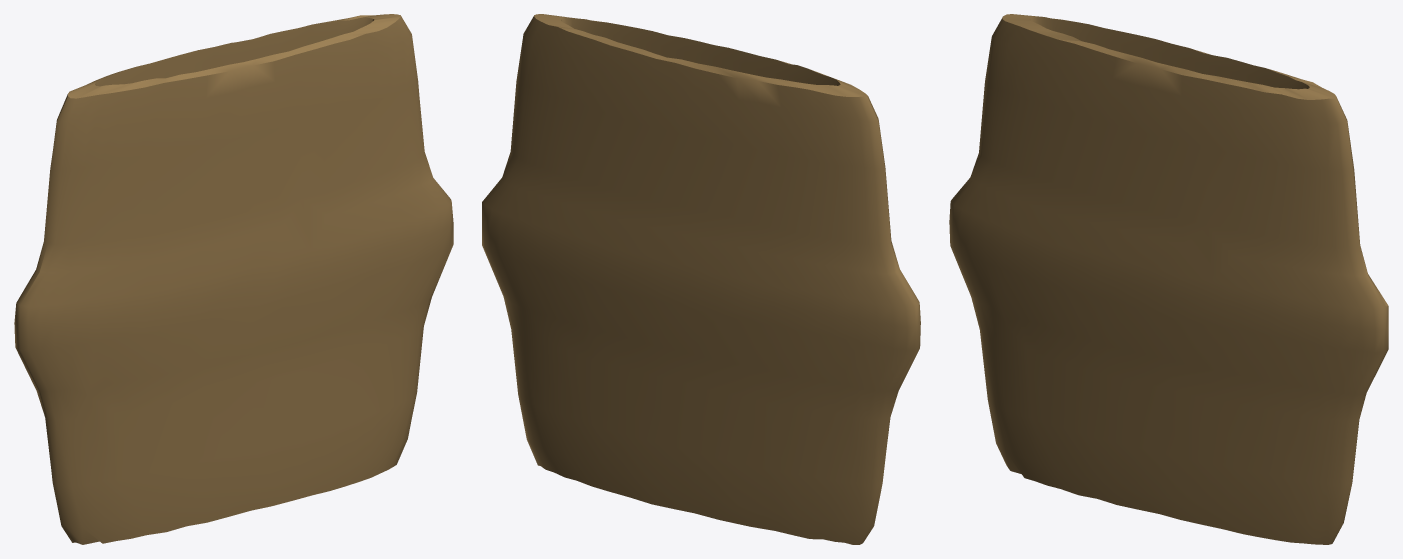
File: 23_SealLarge.glb
3 views of the same model, side by side, from view 1: azimuth 30°, elevation 25°; view 2: azimuth 150°, elevation 25°; view 3: azimuth 330°, elevation 25° (orthographic).
Parts seen in each view (by area): view 1: SM_TS_BrineMK1_SealLarge_V02; view 2: SM_TS_BrineMK1_SealLarge_V02; view 3: SM_TS_BrineMK1_SealLarge_V02.
Part boxes in pixels (x1,y1,x2,y2): SM_TS_BrineMK1_SealLarge_V02: (14, 14, 453, 544); SM_TS_BrineMK1_SealLarge_V02: (482, 14, 920, 544); SM_TS_BrineMK1_SealLarge_V02: (949, 14, 1388, 544).
Size of the model in its own units: 0.042 by 0.042 by 0.006.
